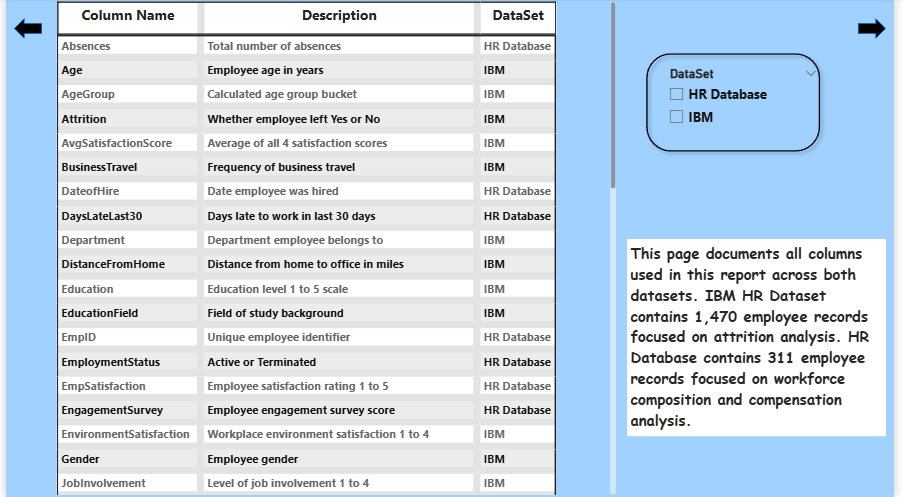

This screenshot's page, from the dashboard's own definition file:
{"tool":"powerbi","page":{"name":"Data Dictionary","canvas":[1280,720],"ordinal":4},"visuals":[{"type":"shape","box":[912.4,70.7,268.4,159.7],"z":0},{"type":"tableEx","fields":{"Values":["Table.Column Name","Table.Description","Table.DataSet"]},"box":[67.7,0,816.5,720],"z":1000},{"type":"slicer","fields":{"Values":["Table.DataSet"]},"box":[943.9,94.3,236.9,107.3],"z":2000},{"type":"textbox","box":[894.2,347,373,283.7],"z":3000},{"type":"shape","box":[11.5,28.8,40.3,30.2],"z":4000},{"type":"shape","box":[1226.9,28.8,40.3,30.2],"z":5000}]}

Visuals, with their boxes in screenshot pixels (x1, y1, x2, y2), scaled from the page's 1280x720 canvas onto the 902x497 screenshot:
shape: (x1=643, y1=49, x2=832, y2=159)
tableEx - Table.Column Name x Table.Description: (x1=48, y1=0, x2=623, y2=496)
slicer - Table.DataSet: (x1=665, y1=65, x2=832, y2=139)
textbox: (x1=630, y1=240, x2=893, y2=435)
shape: (x1=8, y1=20, x2=37, y2=41)
shape: (x1=865, y1=20, x2=893, y2=41)
